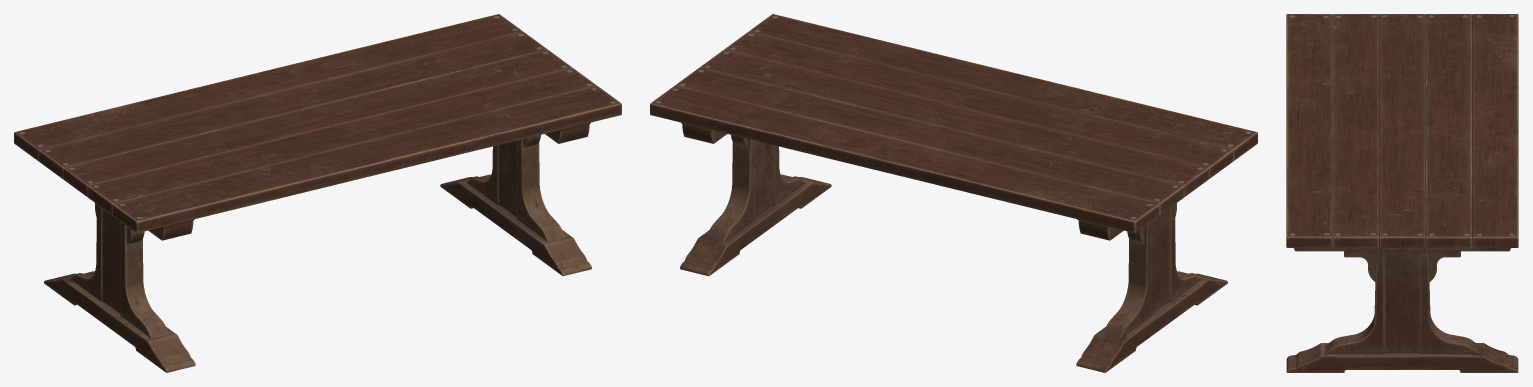
File: table.glb
3 renders of one model, left to right at view 1: azimuth 30°, elevation 25°; view 2: azimuth 150°, elevation 25°; view 3: azimuth 270°, elevation 25°, orthographic. The views are drawn at different scales.
Visible parts, largest first — view 1: table.003; view 2: table.003; view 3: table.003.
Part boxes in pixels (bbox=[...]): table.003: bbox=[14, 14, 621, 372]; table.003: bbox=[650, 14, 1257, 372]; table.003: bbox=[1286, 14, 1518, 372].
Size of the model in its own units: 2.8 by 0.8734 by 1.23.
1 material, 1 textured.
